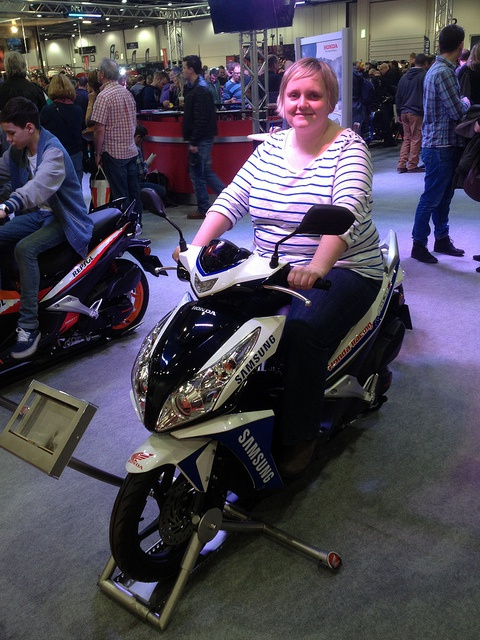non-vehicle: (108, 187, 413, 582), (0, 195, 168, 393)
